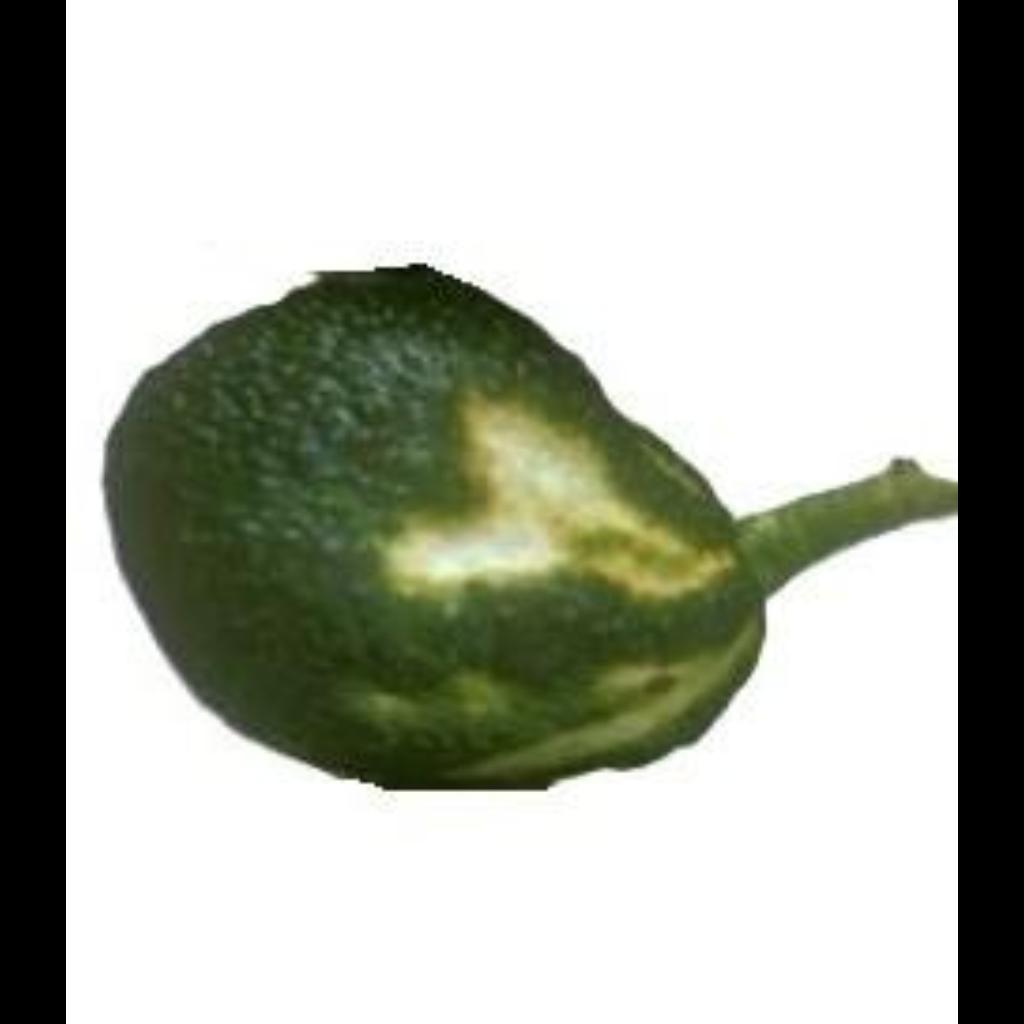Healthy: (141, 354, 371, 662)
